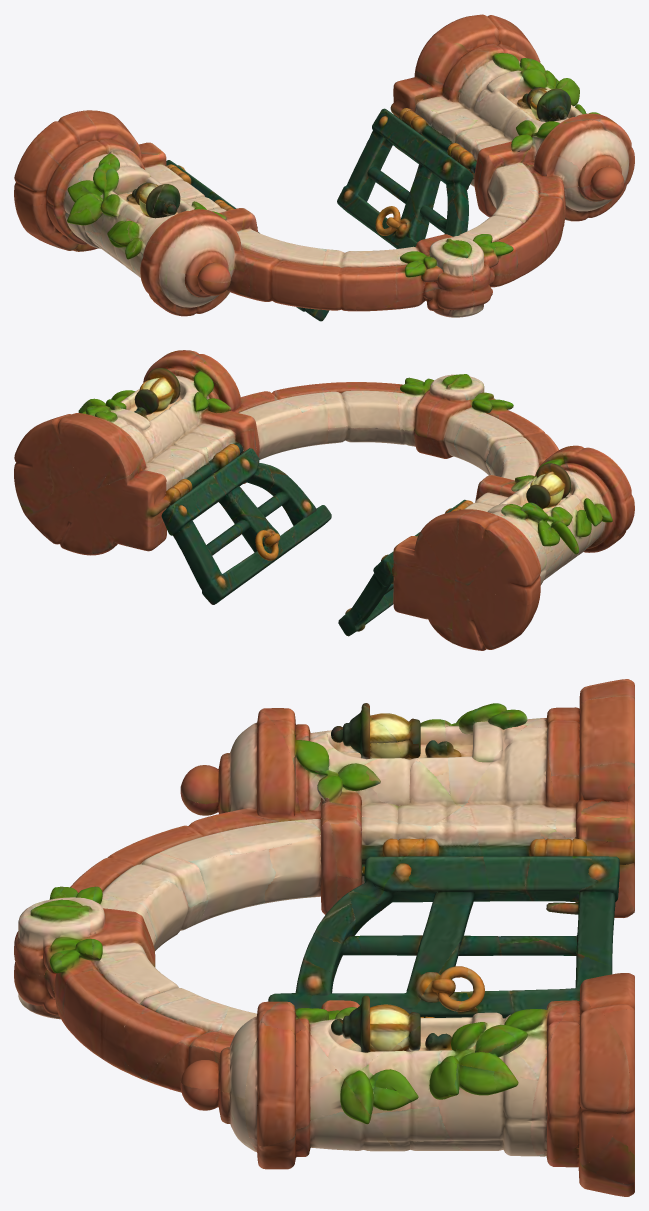
The model's file is garden-gate.glb.
3 renders of one model, top to bottom at view 1: azimuth 30°, elevation 25°; view 2: azimuth 150°, elevation 25°; view 3: azimuth 270°, elevation 25°, orthographic. The views are drawn at different scales.
Parts seen in each view (by area): view 1: mesh_node; view 2: mesh_node; view 3: mesh_node.
Part boxes in pixels (<box>): mesh_node: <box>14,14,634,321</box>; mesh_node: <box>14,350,634,650</box>; mesh_node: <box>14,679,634,1196</box>.
Bounding box in the file's own units: 1.9 × 0.5555 × 1.29.
Materials: 1 (1 with a texture image).
